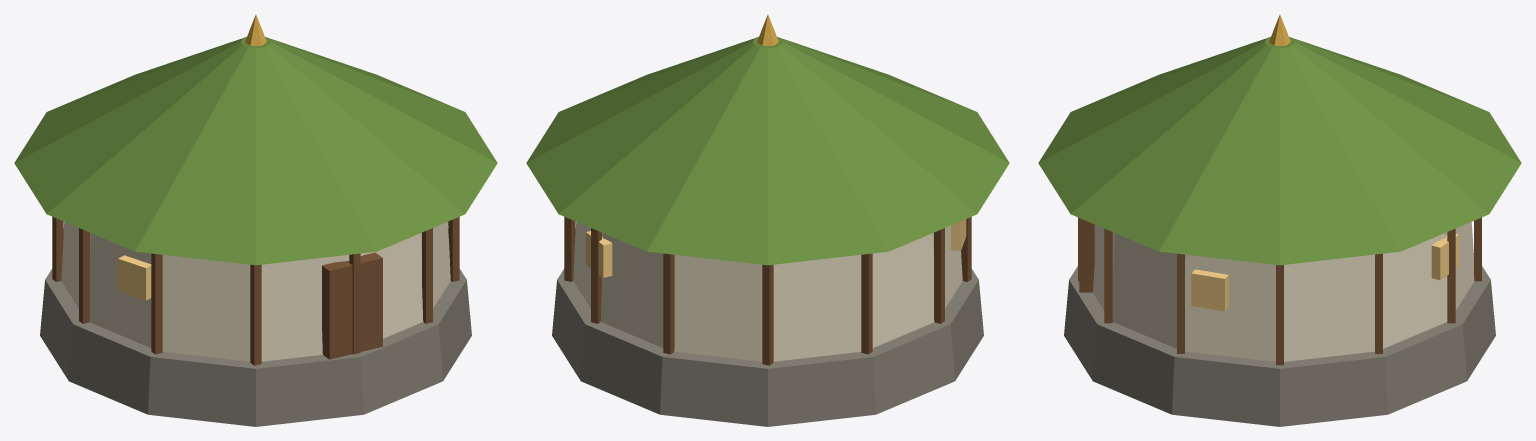
The model's file is hut_2.glb.
3 renders of one model, left to right at view 1: azimuth 30°, elevation 25°; view 2: azimuth 150°, elevation 25°; view 3: azimuth 270°, elevation 25°, orthographic.
Parts seen in each view (by area): view 1: Hut; view 2: Hut; view 3: Hut.
Part boxes in pixels (x1=…): Hut: x1=14, y1=14, x2=497, y2=426; Hut: x1=526, y1=14, x2=1009, y2=426; Hut: x1=1038, y1=14, x2=1521, y2=426.
Size of the model in its own units: 9.4 by 6.9 by 9.4.
